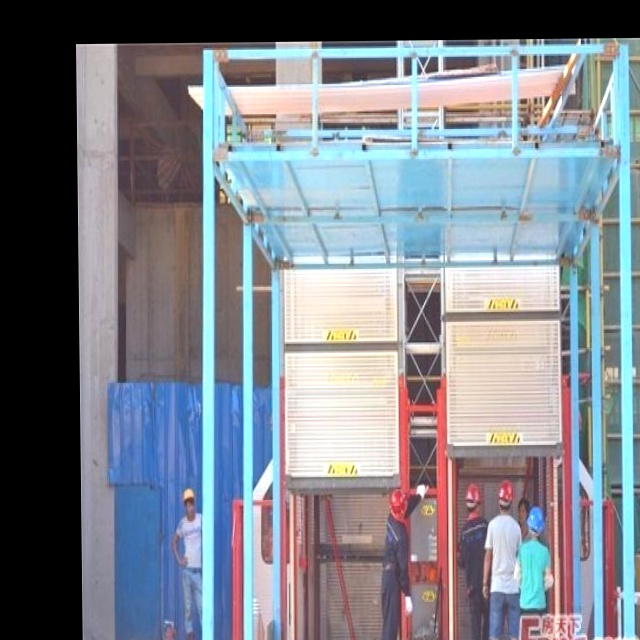Con_Casco: (388, 485, 407, 521)
Sin_Chaleco: (489, 515, 523, 590), (519, 538, 548, 607)
